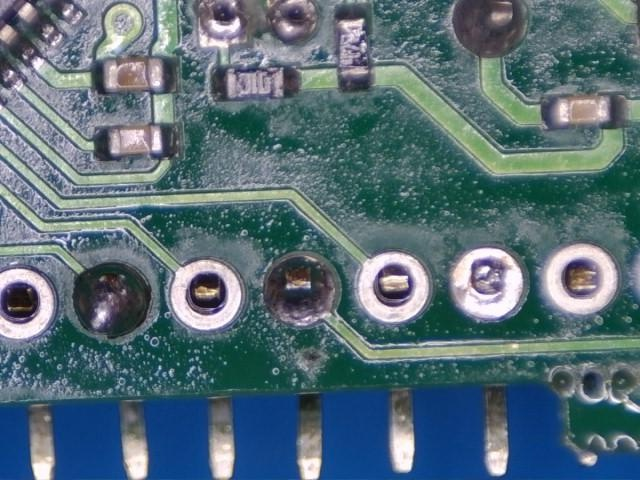pcb_defect: (74, 264, 150, 339), (454, 248, 523, 319)
